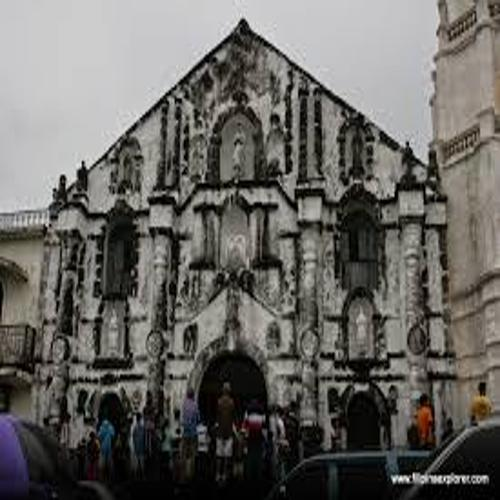Daraga Church: (36, 2, 458, 459)
